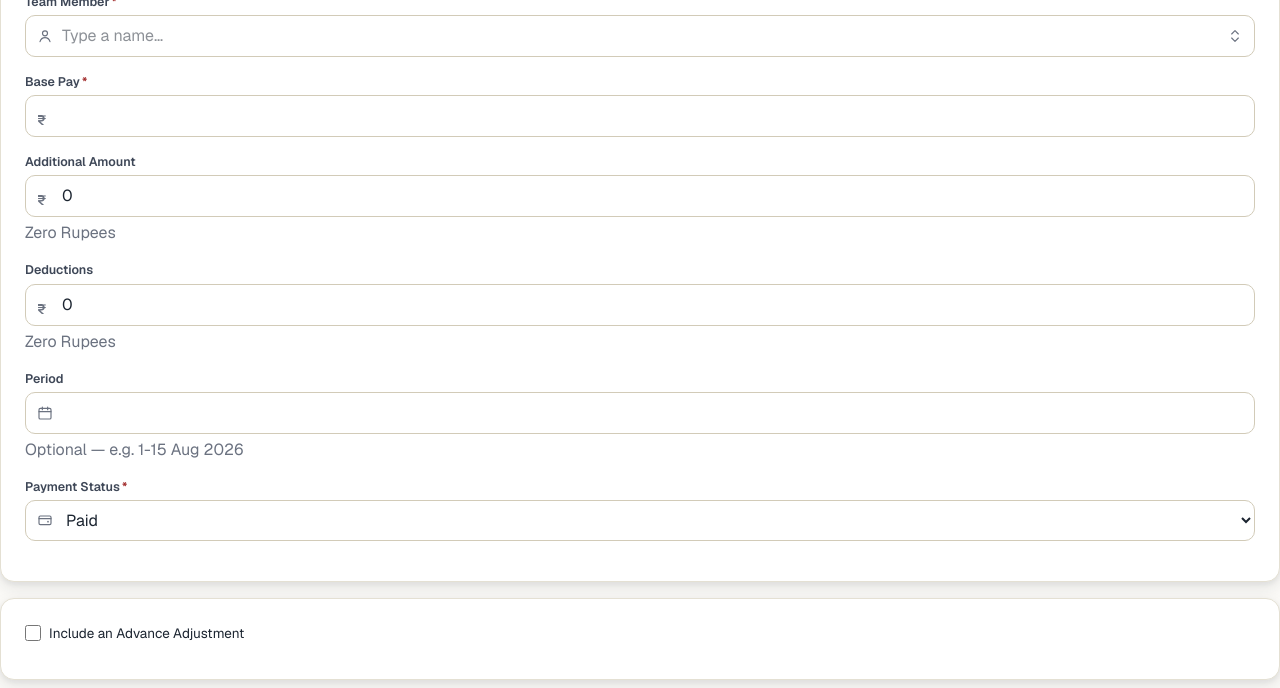
PaymentForm › subtracts the Advance Adjustment amount from the live Net Payable preview when included (AC #1, #4)
Type "15000" into the number field labelled "Base Pay" at (640, 116), box [25,95,1255,137]
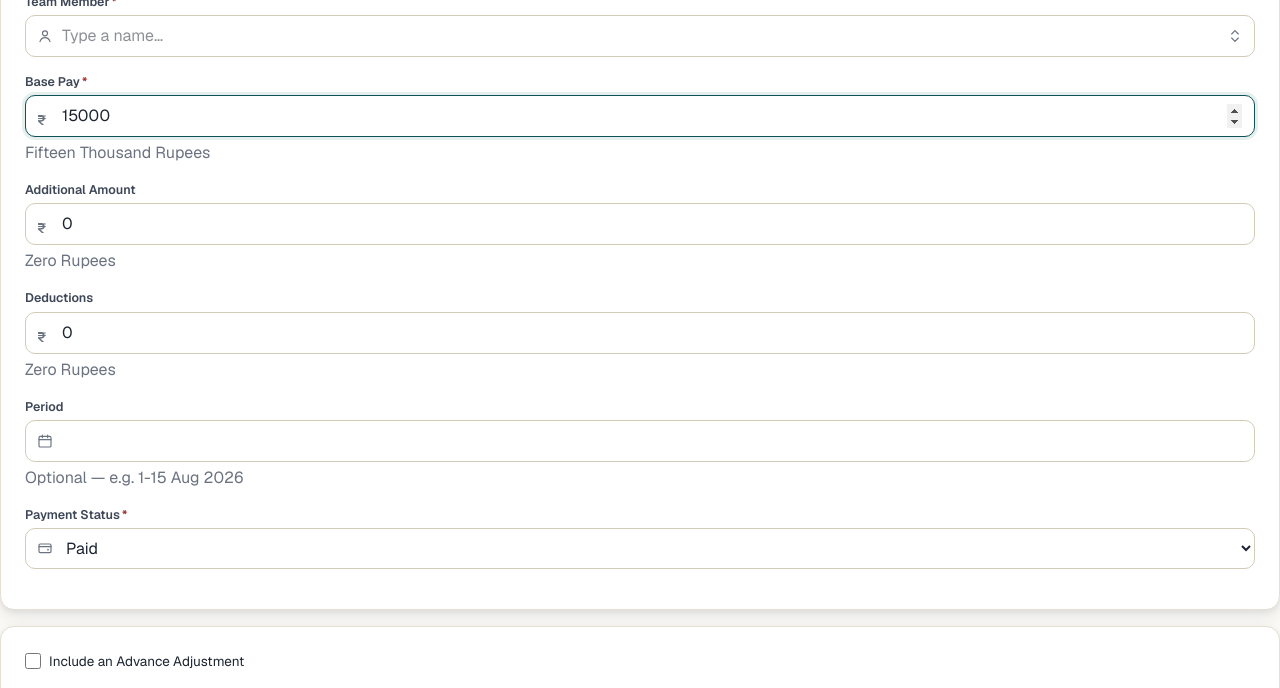
Type "ravi" into the dropdown labelled "Team Member" at (640, 36), box [25,15,1255,57]
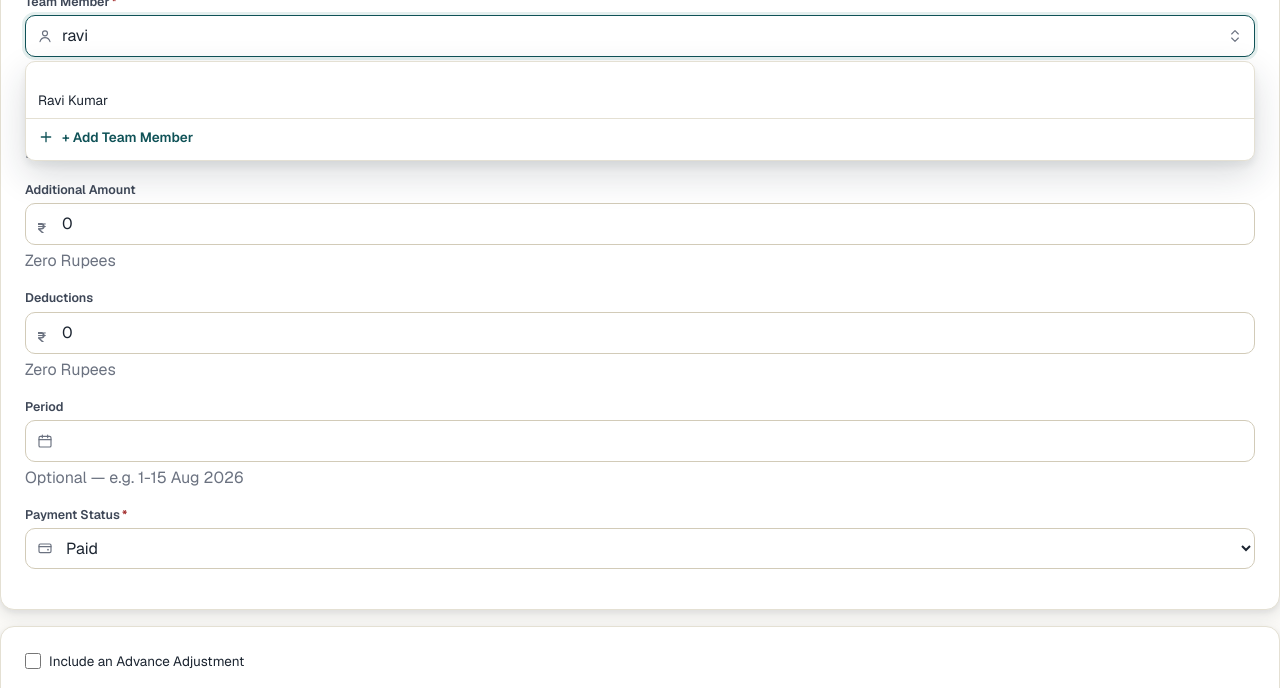
Click the option "Ravi Kumar" at (73, 100), box [38,91,108,109]
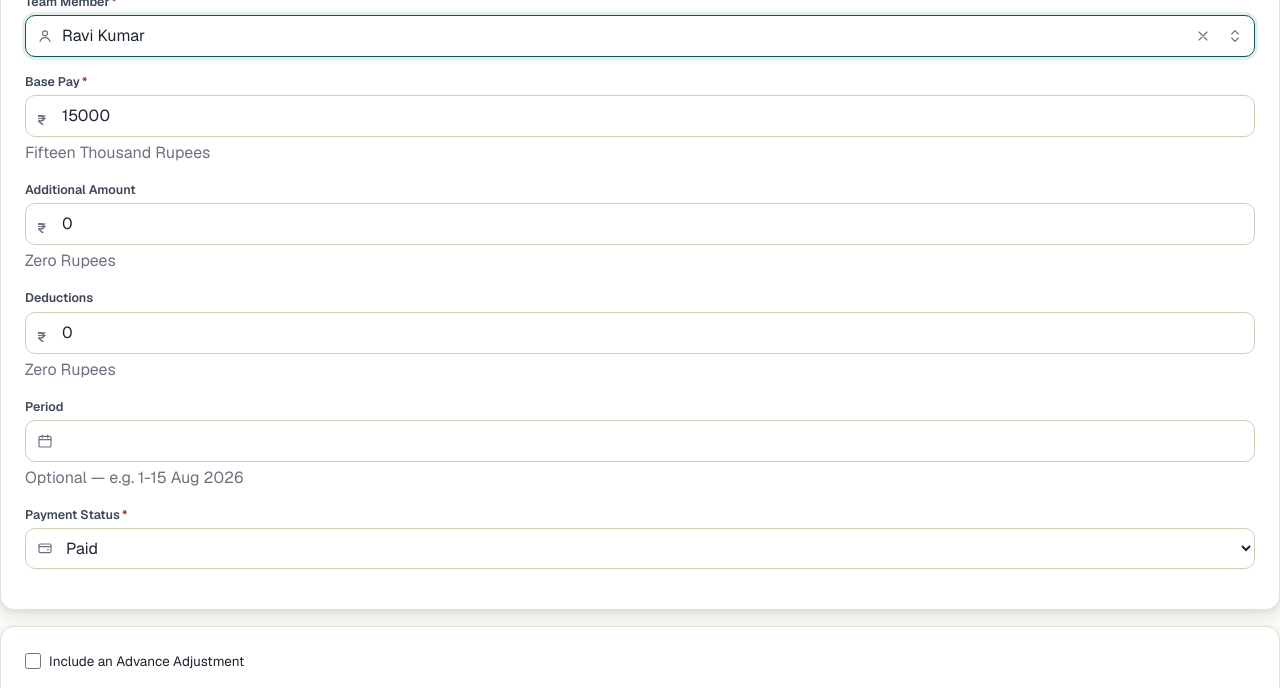
Click the checkbox labelled "Include an Advance Adjustment" at (33, 661), box [25,653,41,669]
(page scrolled)
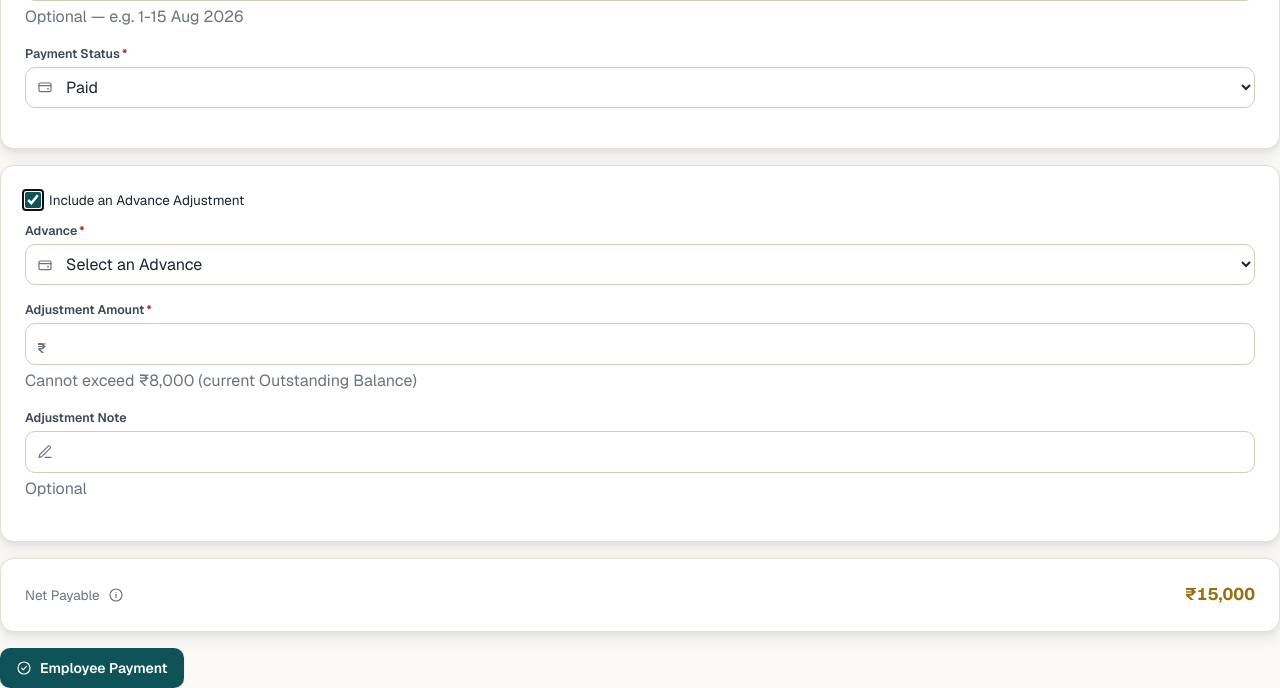
Type "3000" into the number field labelled "Adjustment Amount" at (640, 344), box [25,323,1255,365]
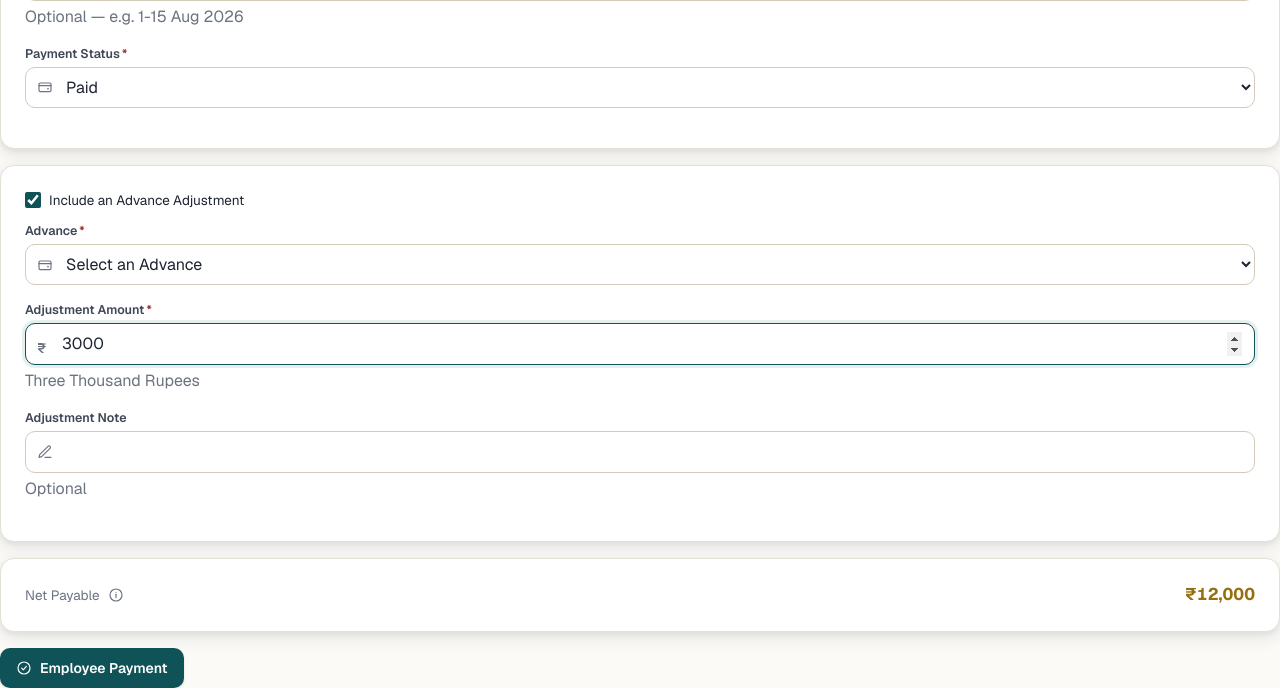
Expected: the text "₹12,000" is shown, [1185,584,1255,607]
